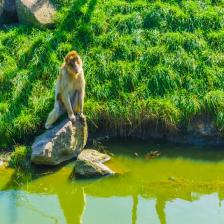monkey: (43, 37, 98, 133)
